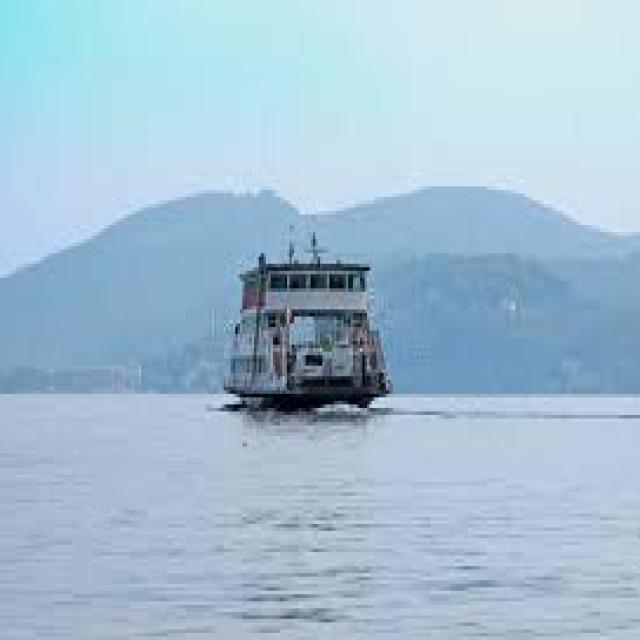cargoship: (232, 231, 402, 432)
